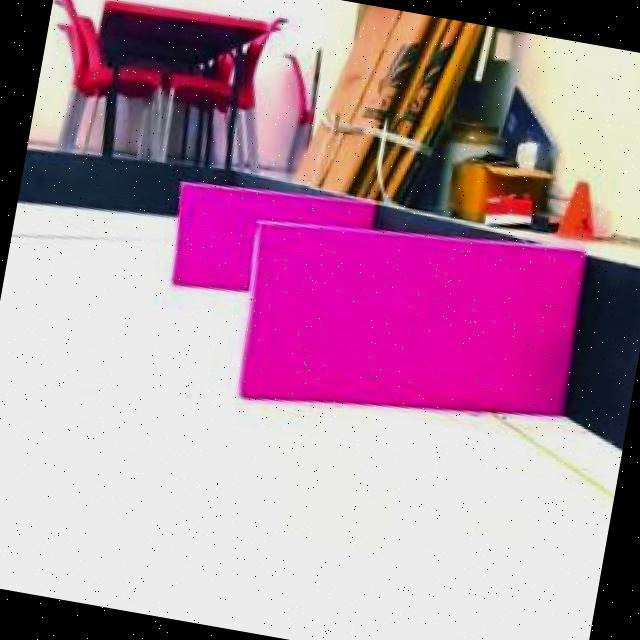xparking: (235, 222, 582, 445), (167, 180, 261, 294)
